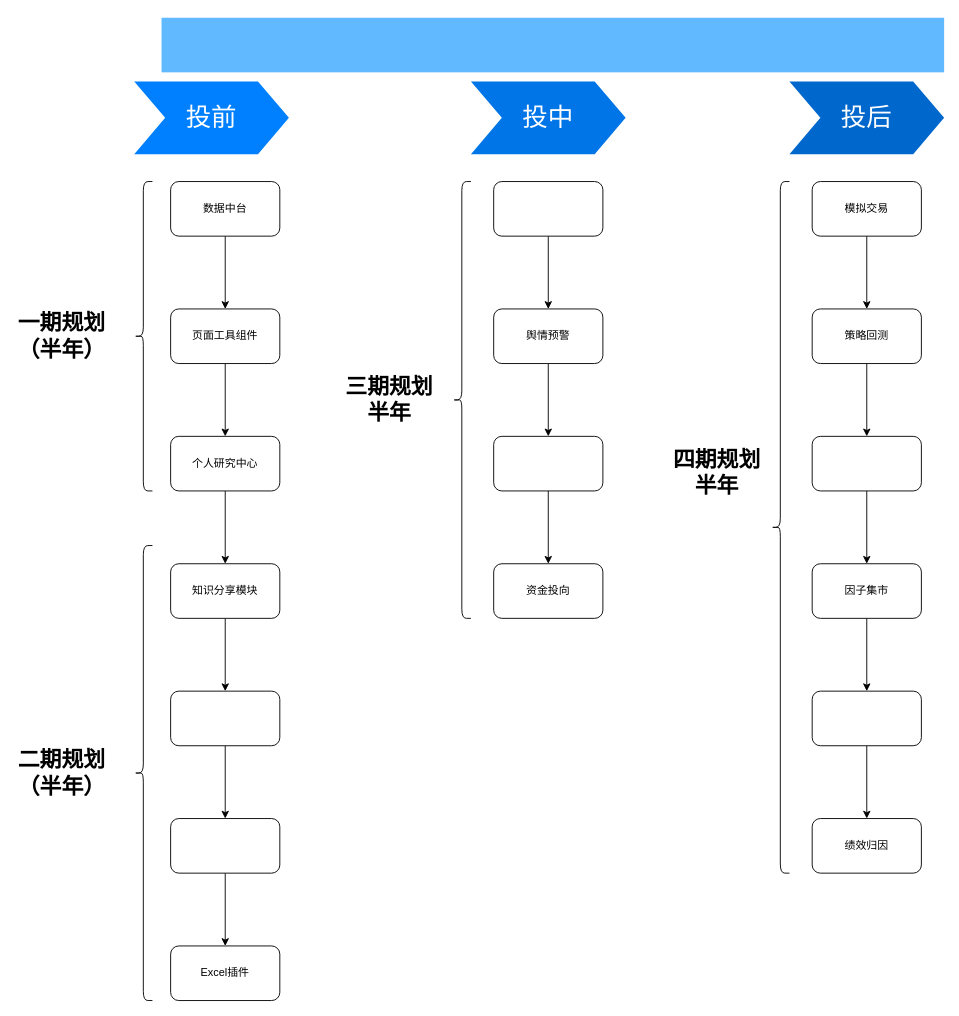
Some shapes in this 959 by 1016 pixel diagram are drawn without their labels. Here are the shapes that lost their labels. From the top down, the centre of each, then its label:
At pixel 552 44: "投研平台规划".
At pixel 548 208: "风控系统".
At pixel 548 463: "风险统计".
At pixel 866 463: "投资组合".
At pixel 225 718: "宏、中、微 分类".
At pixel 866 718: "因子分析".
At pixel 225 845: "研报管理平台".
